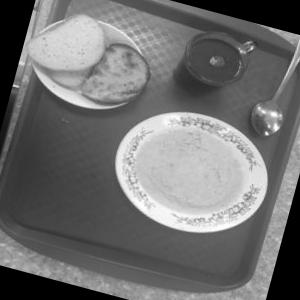bread: (19, 0, 118, 107)
cheese_sandwich: (78, 24, 162, 128)
coffee: (160, 19, 263, 120)
porridge: (109, 98, 276, 252)
